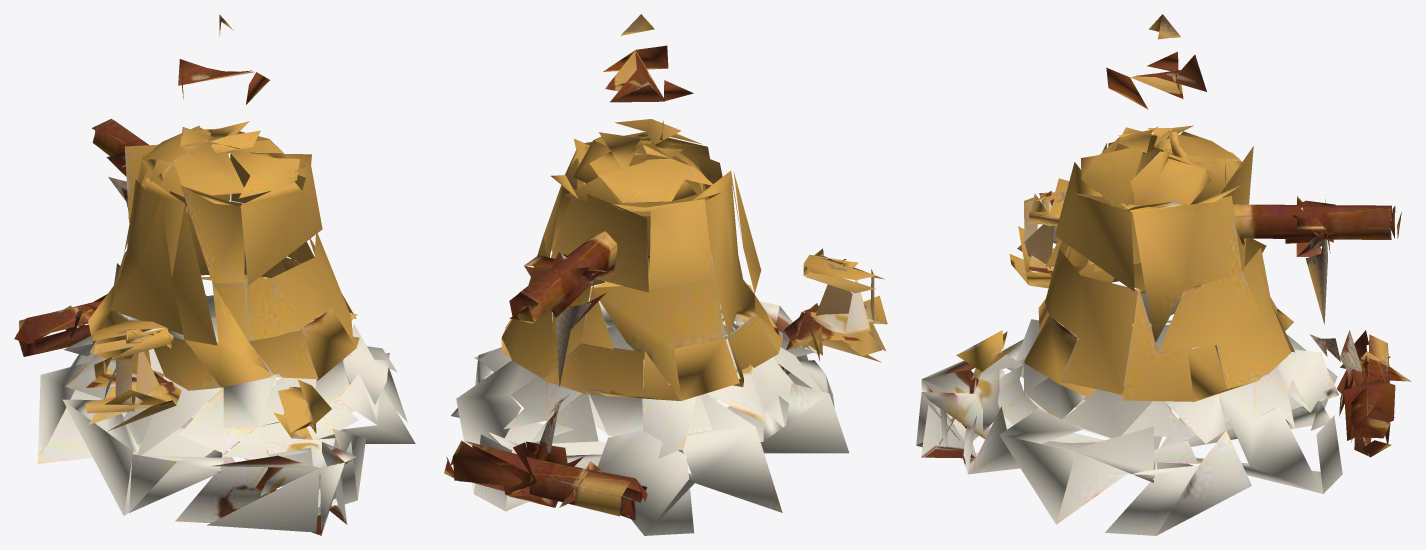
The model's file is keepsake-ship-bell.lod1.glb.
The picture shows the model from 3 angles, left to right: view 1: azimuth 30°, elevation 25°; view 2: azimuth 150°, elevation 25°; view 3: azimuth 270°, elevation 25°; orthographic projection. The views are drawn at different scales.
Visible parts, largest first — view 1: keepsake-ship-bell_lod1; view 2: keepsake-ship-bell_lod1; view 3: keepsake-ship-bell_lod1.
Part boxes in pixels (x1,y1,x2,y2): keepsake-ship-bell_lod1: (14,14,415,535); keepsake-ship-bell_lod1: (444,14,887,535); keepsake-ship-bell_lod1: (916,14,1411,535).
Bounding box in the file's own units: 0.5981 × 0.7025 × 0.716.
Materials: 1 (1 with a texture image).
